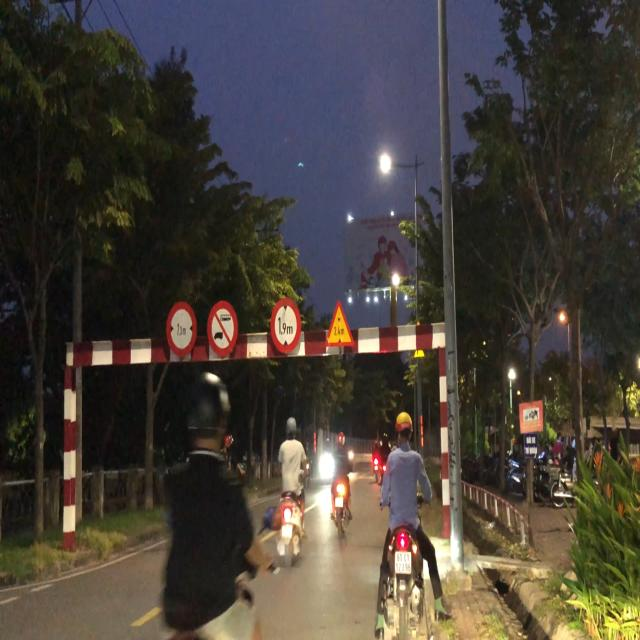Bien bao cam xe oto khach va xe oto tai: (207, 296, 238, 356)
Bien bao chieu cao tinh khong thuc te: (323, 298, 356, 349)
Bien bao han che chieu cao: (268, 294, 303, 361)
